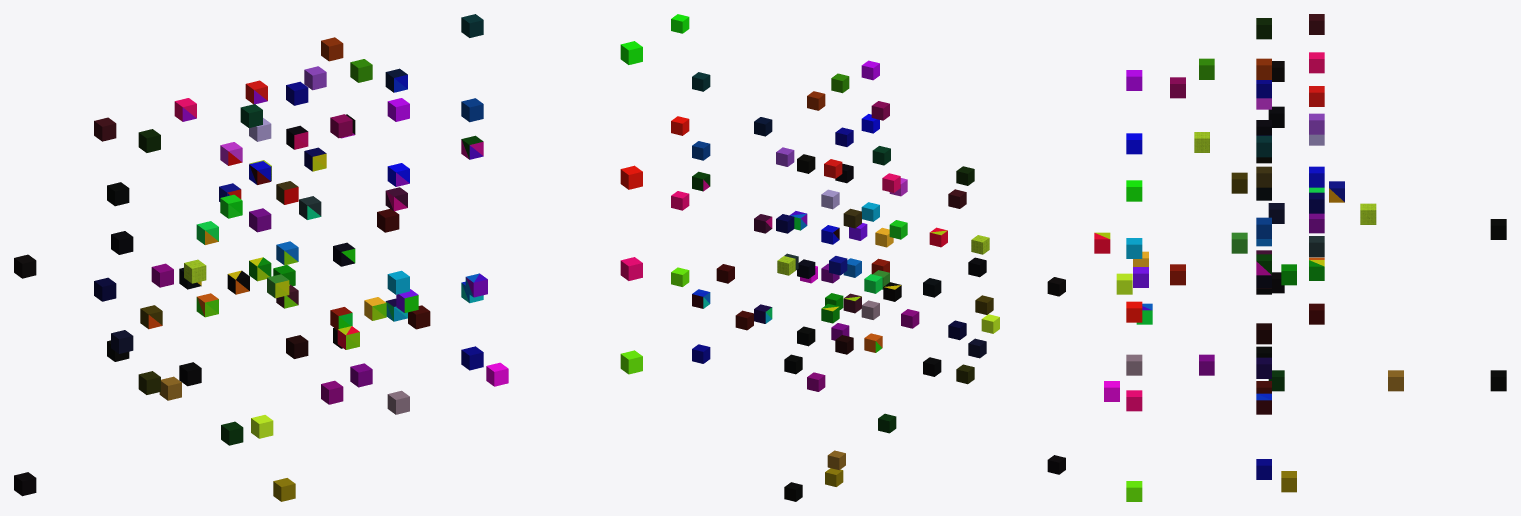
File: testcubemodel12.obj
The picture shows the model from 3 angles, left to right: view 1: azimuth 30°, elevation 25°; view 2: azimuth 150°, elevation 25°; view 3: azimuth 270°, elevation 25°; orthographic projection. The views are drawn at different scales.
Size of the model in its own units: 7737 by 6164 by 5198.
Materials: 752 (2 with a texture image).
